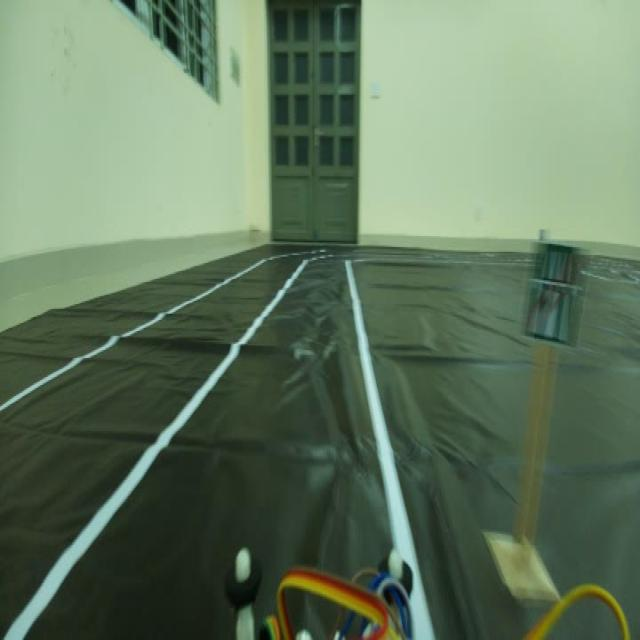highway_exit: (516, 220, 584, 356)
